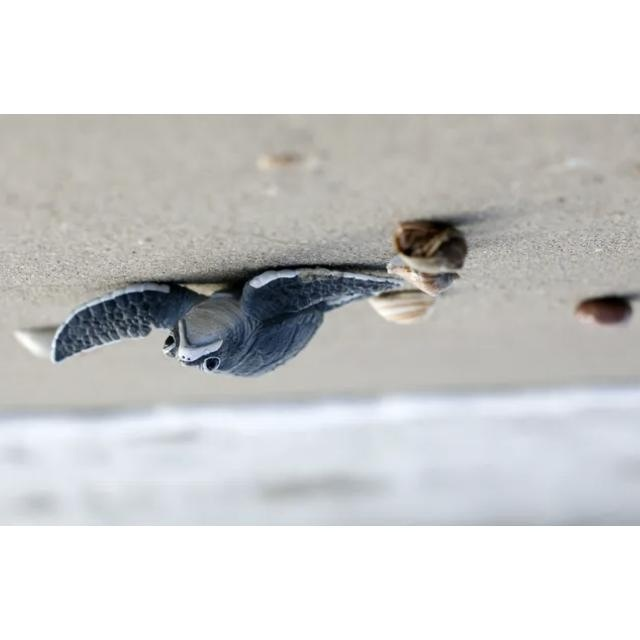turtle: (51, 263, 401, 380)
